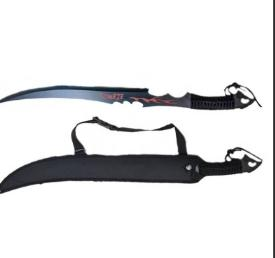MACHETTE: (0, 82, 268, 119)
